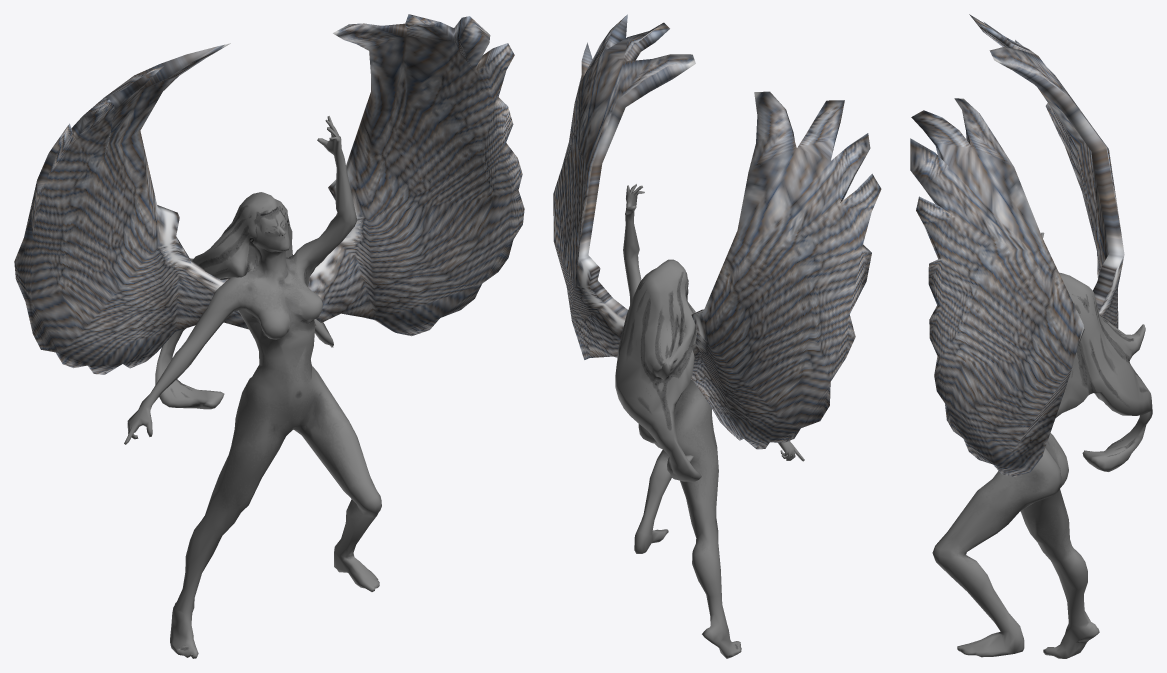
Rendered from Angeltest.fbx.
The picture shows the model from 3 angles, left to right: view 1: azimuth 30°, elevation 25°; view 2: azimuth 150°, elevation 25°; view 3: azimuth 270°, elevation 25°; orthographic projection. The views are drawn at different scales.
Visible parts, largest first — view 1: Angel_LOD0; view 2: Angel_LOD0; view 3: Angel_LOD0.
Boxes of the visible parts, <box> form: Angel_LOD0: <box>14,14,524,658</box>; Angel_LOD0: <box>553,14,881,658</box>; Angel_LOD0: <box>910,14,1152,658</box>.
Size of what is drawn, in the model's own units: 183 by 264 by 94.87.
